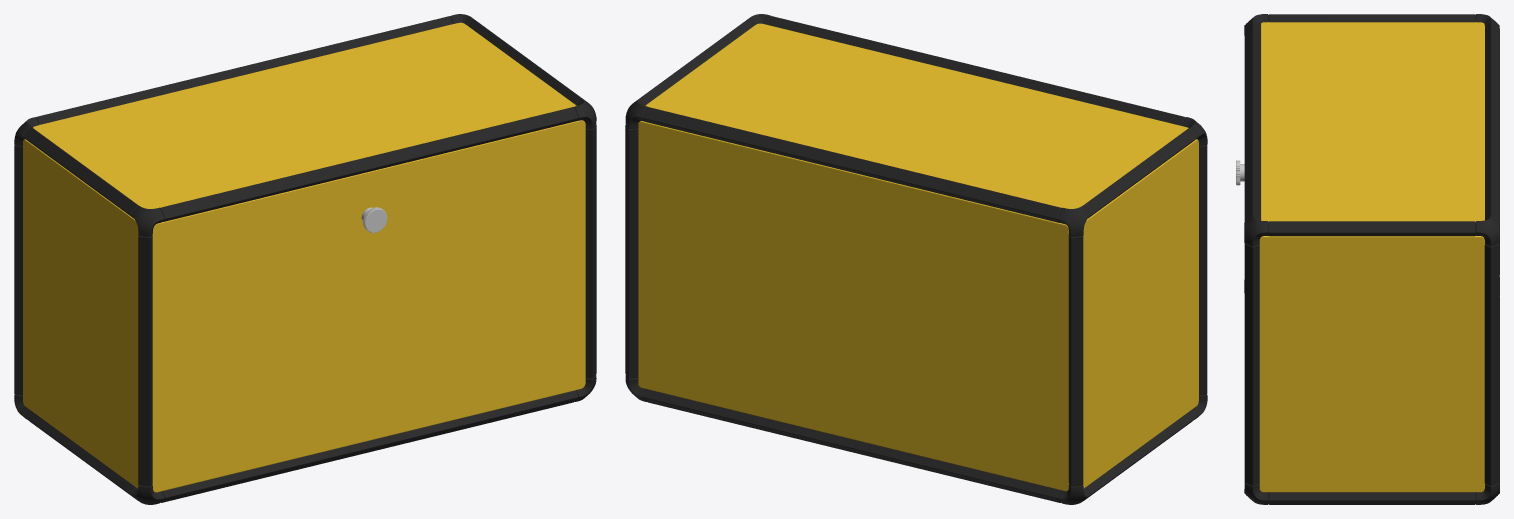
The picture shows the model from 3 angles, left to right: view 1: azimuth 30°, elevation 25°; view 2: azimuth 150°, elevation 25°; view 3: azimuth 270°, elevation 25°; orthographic projection. The views are drawn at different scales.
Parts seen in each view (by area): view 1: 729x329x375; view 2: 729x329x375; view 3: 729x329x375.
Part boxes in pixels (left/top/right/bottom): 729x329x375: left=14, top=14, right=596, bottom=504; 729x329x375: left=625, top=14, right=1207, bottom=504; 729x329x375: left=1236, top=14, right=1499, bottom=504.
Bounding box in the file's own units: 0.8067 × 0.4977 × 0.4196.
